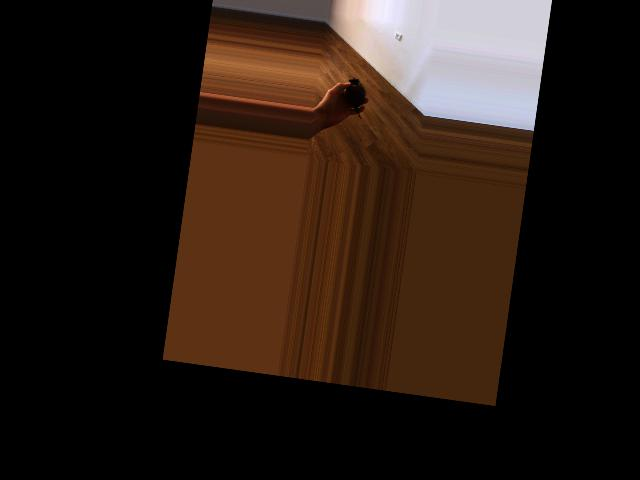beet: (340, 77, 368, 118)
